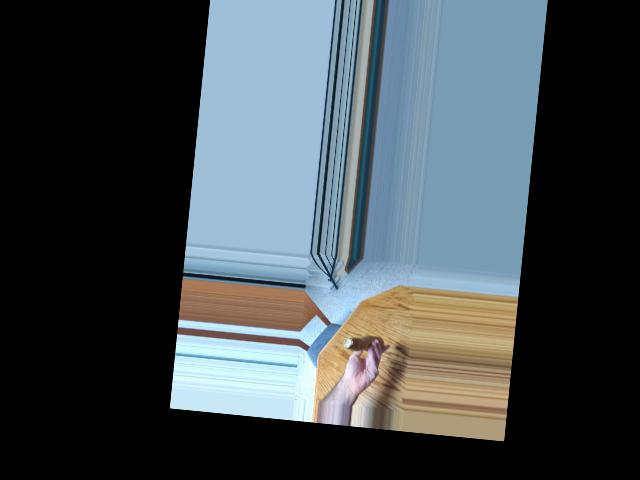sweet_potato: (349, 333, 382, 354)
